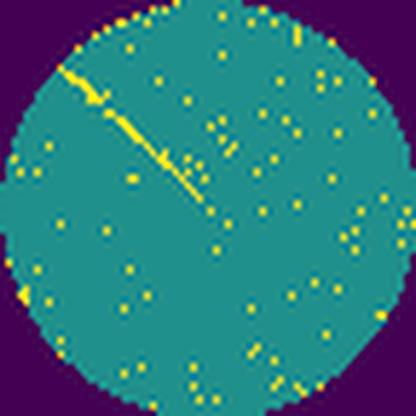Scratch: (58, 64, 209, 207)
